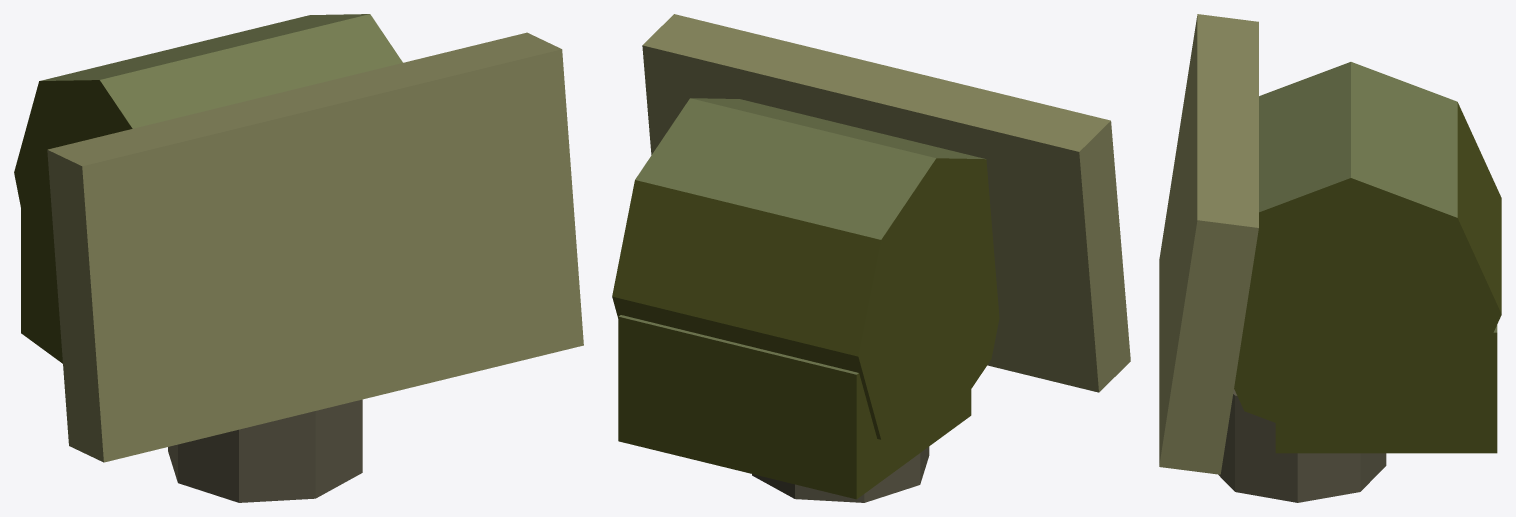
File: SM_Radar_v0_RecienLlegado_LOD1.fbx
3 views of the same model, side by side, from view 1: azimuth 30°, elevation 25°; view 2: azimuth 150°, elevation 25°; view 3: azimuth 270°, elevation 25° (orthographic). The views are drawn at different scales.
Parts seen in each view (by area): view 1: Antena; view 2: Antena; view 3: Antena.
Part boxes in pixels (<box>): Antena: <box>14,14,583,502</box>; Antena: <box>612,14,1130,502</box>; Antena: <box>1159,14,1501,502</box>.
Size of what is drawn, in the model's own units: 1.1 by 0.8667 by 0.7725.
